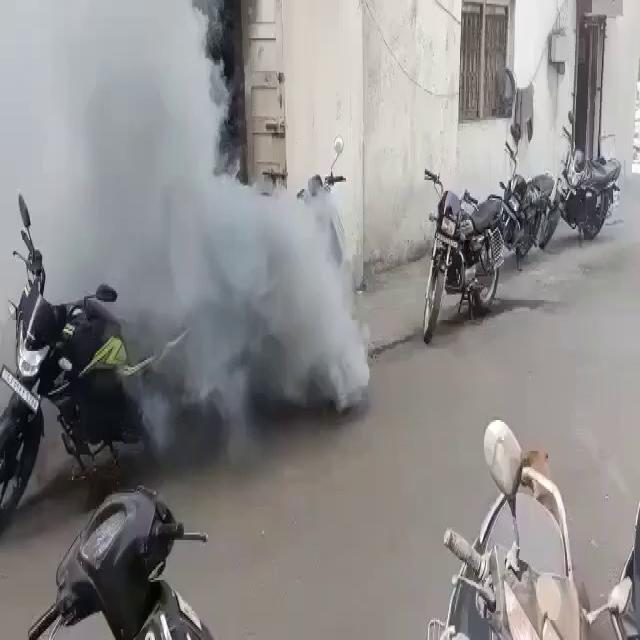Smoke: (1, 1, 368, 454)
